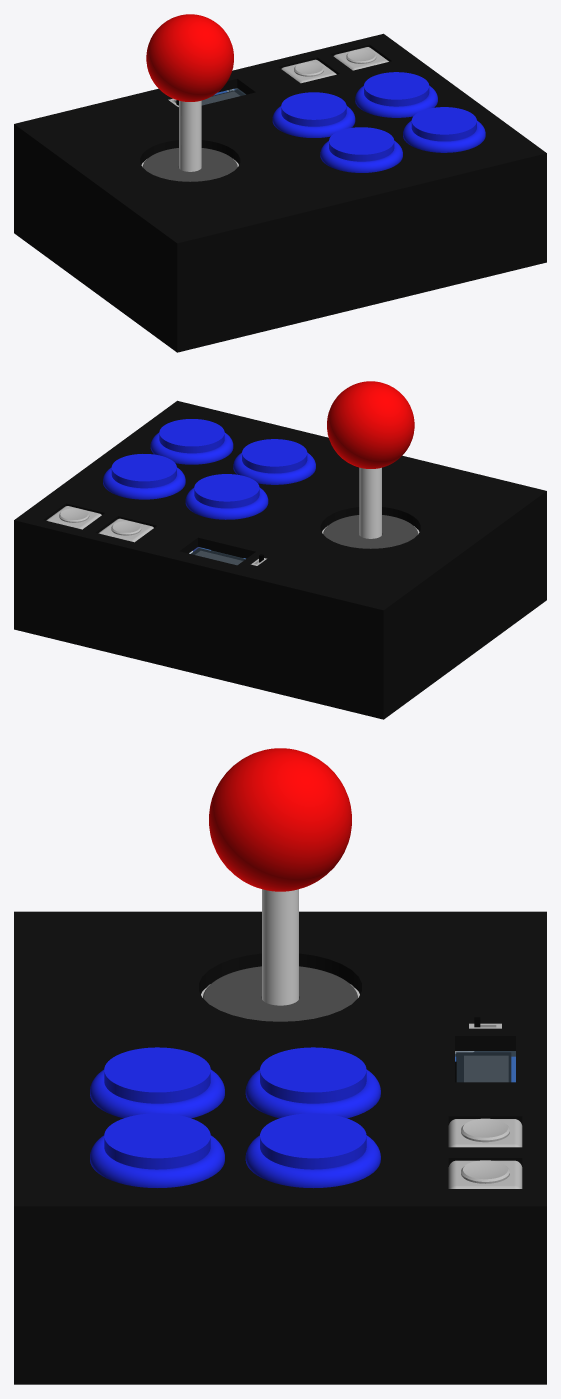
The model's file is OpenArcadeAssyJoystick_v1.glb.
3 renders of one model, top to bottom at view 1: azimuth 30°, elevation 25°; view 2: azimuth 150°, elevation 25°; view 3: azimuth 270°, elevation 25°, orthographic. The views are drawn at different scales.
Visible parts, largest first — view 1: Solid1 (×14); view 2: Solid1 (×16); view 3: Solid1 (×16).
Boxes of the visible parts, <box> form: Solid1 (×14): <box>14,14,546,352</box>; Solid1 (×16): <box>14,381,546,719</box>; Solid1 (×16): <box>14,748,546,1384</box>.
Size of the model in its own units: 0.17 by 0.1105 by 0.13.
